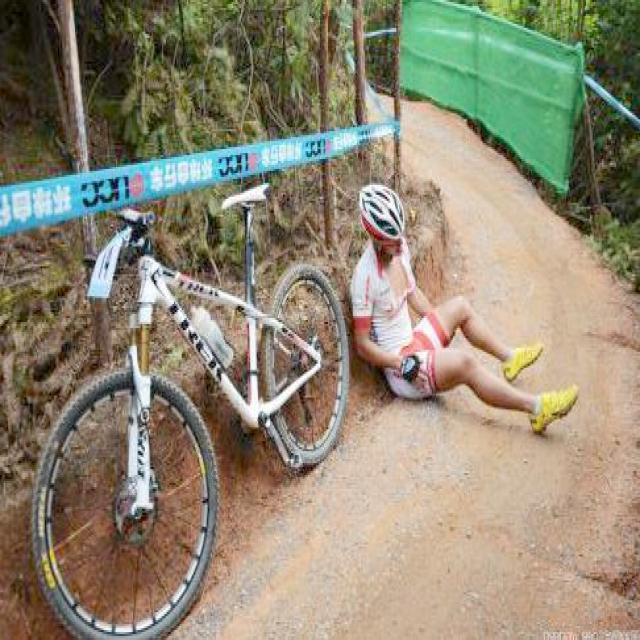fall: (354, 187, 557, 427)
